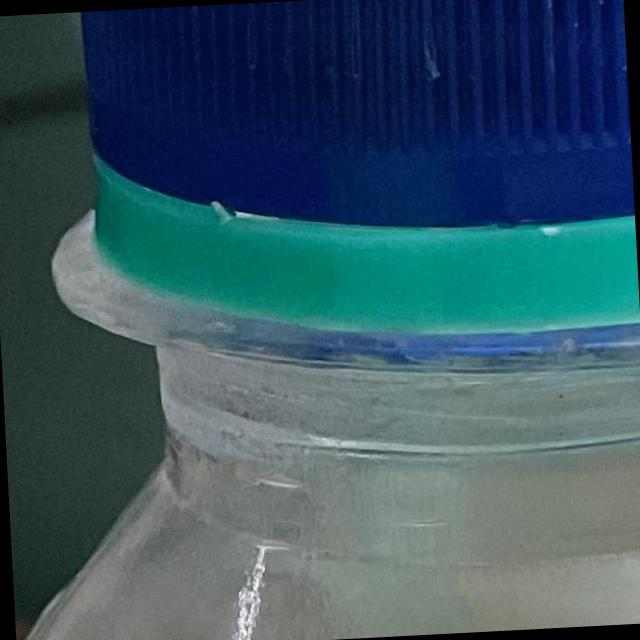Good-cap-Df0S: (32, 0, 640, 358)
